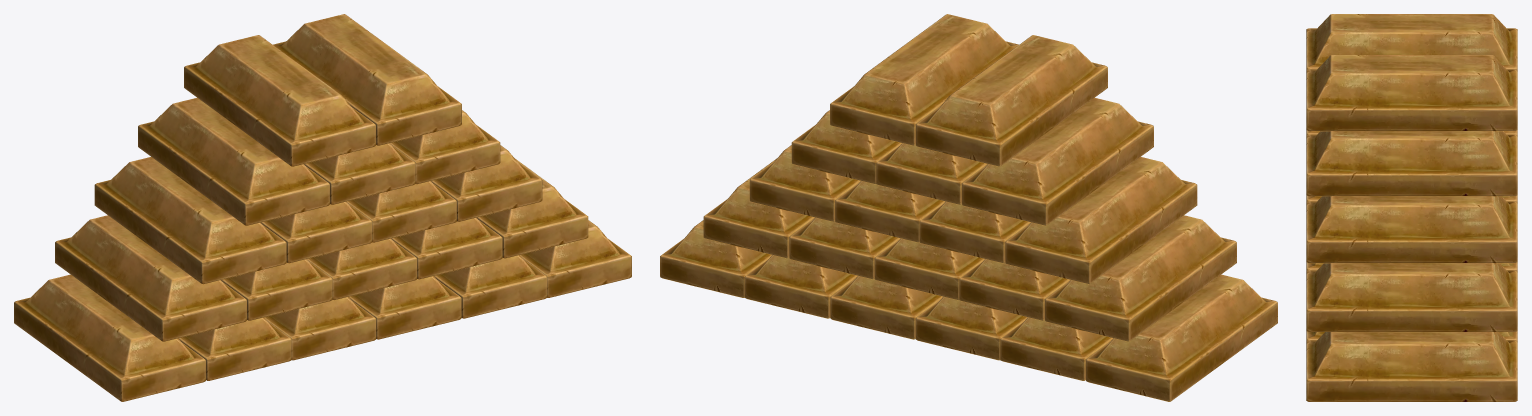
3 views of the same model, side by side, from view 1: azimuth 30°, elevation 25°; view 2: azimuth 150°, elevation 25°; view 3: azimuth 270°, elevation 25° (orthographic). The views are drawn at different scales.
Parts seen in each view (by area): view 1: SM_Dec_Pile_of_Bronzebars_Large_LOD0; view 2: SM_Dec_Pile_of_Bronzebars_Large_LOD0; view 3: SM_Dec_Pile_of_Bronzebars_Large_LOD0.
Boxes of the visible parts, x1,y1,x2,y2 form: SM_Dec_Pile_of_Bronzebars_Large_LOD0: [14, 14, 631, 401]; SM_Dec_Pile_of_Bronzebars_Large_LOD0: [660, 14, 1277, 401]; SM_Dec_Pile_of_Bronzebars_Large_LOD0: [1306, 14, 1517, 401].
Size of the model in its own units: 1.47 by 0.6631 by 0.5368.
1 material, 1 textured.
